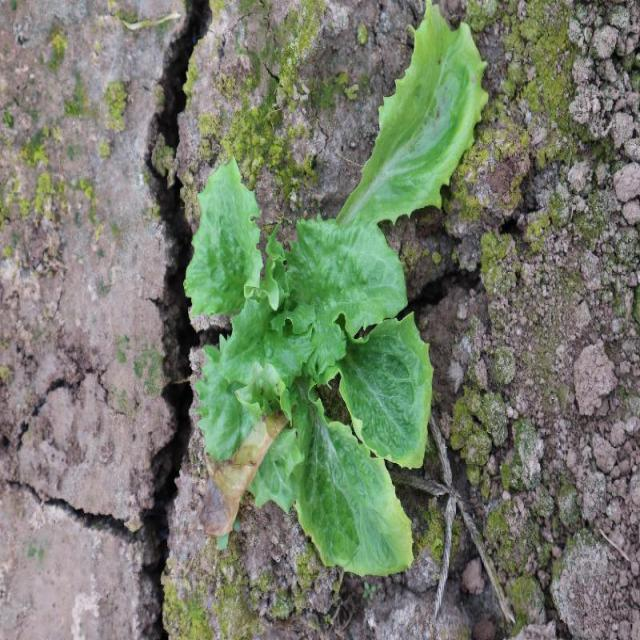crop: (182, 0, 490, 578)
